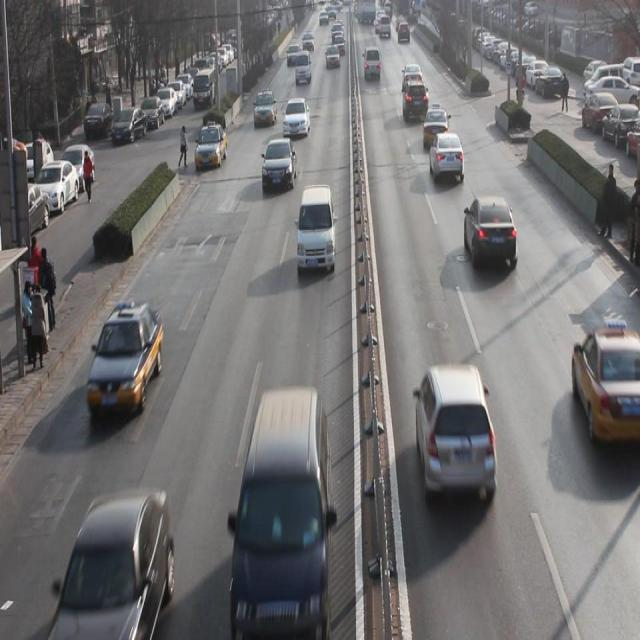car: (53, 496, 171, 640), (414, 362, 497, 506), (570, 322, 640, 450), (89, 309, 164, 415), (463, 196, 520, 276), (261, 141, 296, 193), (428, 132, 464, 182), (195, 123, 228, 171), (282, 96, 310, 141), (402, 78, 429, 124), (423, 101, 448, 149), (254, 92, 276, 126)
truck: (232, 394, 331, 640), (298, 186, 338, 279), (294, 51, 312, 86)
